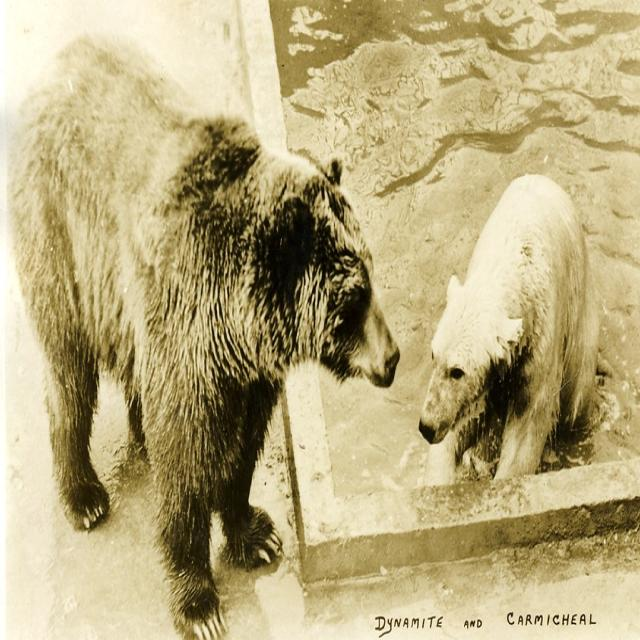Cheetahs: (4, 23, 399, 639)
